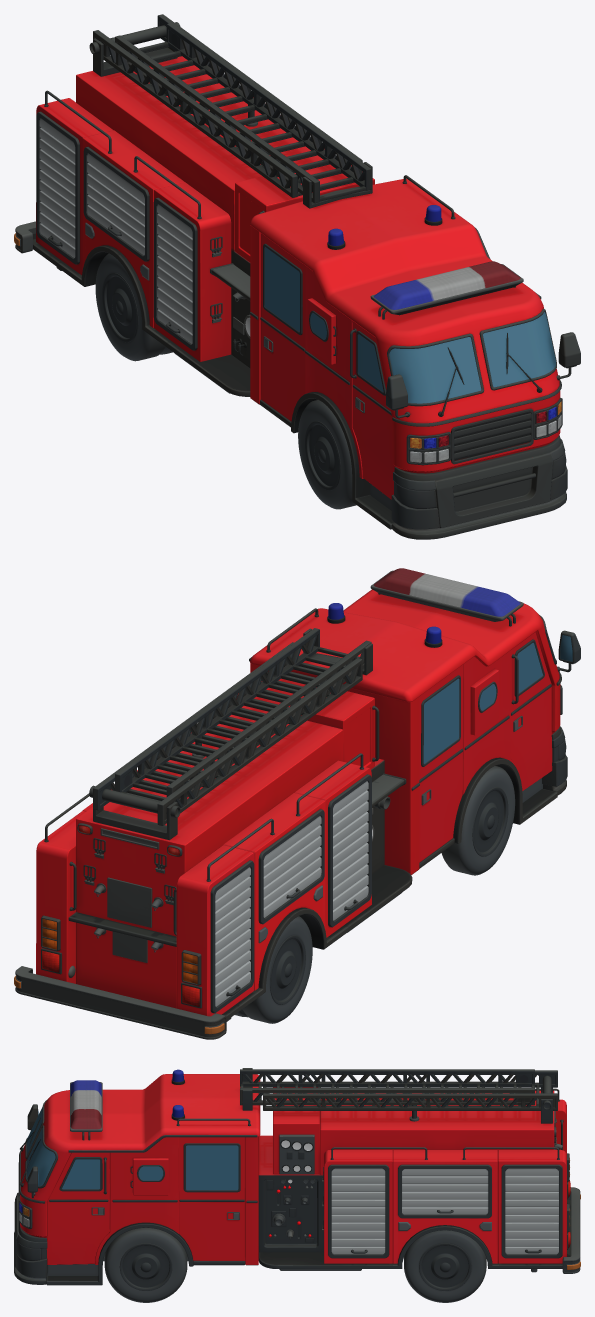
The model's file is firetruck.glb.
3 renders of one model, top to bottom at view 1: azimuth 30°, elevation 25°; view 2: azimuth 150°, elevation 25°; view 3: azimuth 270°, elevation 25°, orthographic. The views are drawn at different scales.
Visible parts, largest first — view 1: node_id30; view 2: node_id30; view 3: node_id30.
Boxes of the visible parts, x1,y1,x2,y2 form: node_id30: (14,14,580,539); node_id30: (14,568,580,1039); node_id30: (14,1068,580,1302).
Size of the model in its own units: 0.4185 by 0.512 by 1.35.
Materials: 1 (1 with a texture image).
